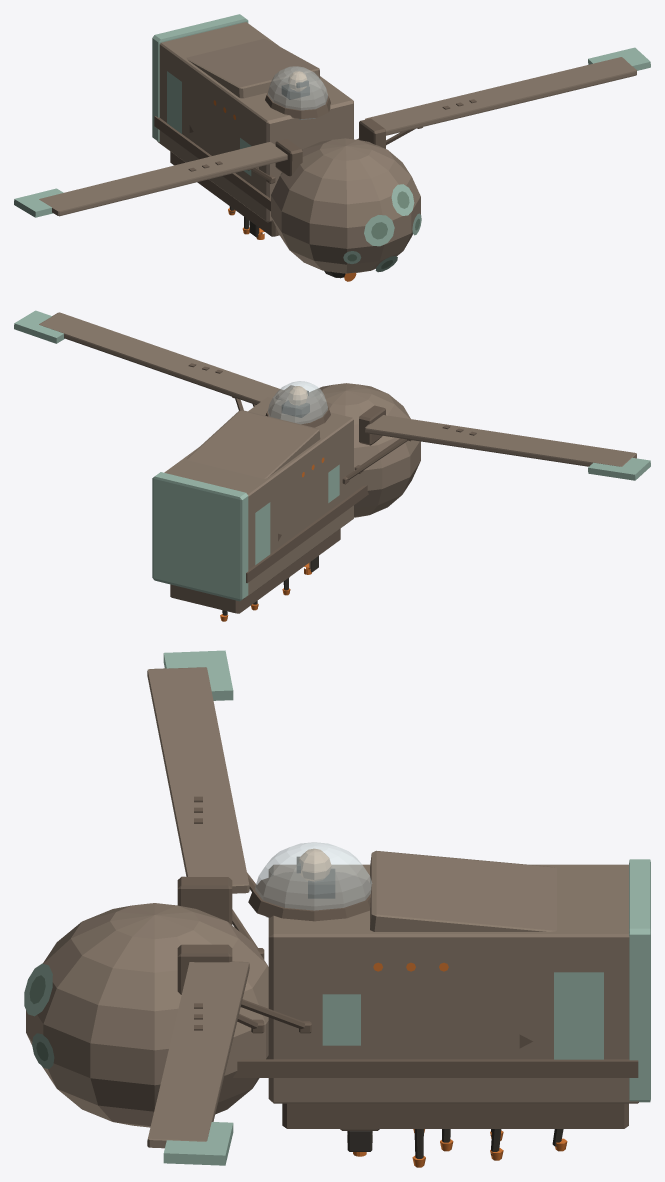
File: pod-55-2.glb
3 renders of one model, top to bottom at view 1: azimuth 30°, elevation 25°; view 2: azimuth 150°, elevation 25°; view 3: azimuth 270°, elevation 25°, orthographic. The views are drawn at different scales.
Visible parts, largest first — view 1: n1, n13, n44, n33, n15, n27, n19, n28, n21, n17, n23, n35 (+5 smaller); view 2: n13, n19, n1, n44, n15, n33, n17, n27, n21, n28, n35, n46 (+2 smaller); view 3: n13, n1, n15, n33, n44, n17, n22, n27, n19, n25, n28, n37 (+6 smaller).
Part boxes in pixels (bbox=[...]): n1: bbox=[271, 138, 420, 273]; n13: bbox=[157, 22, 353, 222]; n44: bbox=[365, 57, 636, 135]; n33: bbox=[39, 142, 287, 216]; n15: bbox=[186, 39, 320, 98]; n27: bbox=[268, 66, 327, 119]; n19: bbox=[152, 14, 248, 142]; n28: bbox=[265, 82, 330, 118]; n21: bbox=[154, 116, 270, 211]; n17: bbox=[170, 151, 279, 236]; n23: bbox=[167, 71, 181, 133]; n35: bbox=[14, 188, 63, 217]; n13: bbox=[164, 397, 353, 599]; n19: bbox=[152, 472, 248, 601]; n1: bbox=[308, 383, 420, 517]; n44: bbox=[39, 312, 283, 404]; n15: bbox=[186, 410, 320, 478]; n33: bbox=[365, 415, 636, 466]; n17: bbox=[170, 528, 340, 613]; n27: bbox=[268, 381, 327, 424]; n21: bbox=[246, 485, 368, 583]; n28: bbox=[265, 397, 330, 427]; n35: bbox=[588, 457, 650, 480]; n46: bbox=[14, 310, 64, 343]; n13: bbox=[268, 864, 638, 1103]; n1: bbox=[26, 903, 268, 1127]; n15: bbox=[370, 850, 556, 931]; n33: bbox=[147, 667, 249, 893]; n44: bbox=[147, 961, 249, 1148]; n17: bbox=[282, 1103, 628, 1128]; n22: bbox=[233, 1059, 638, 1077]; n27: bbox=[255, 842, 372, 917]; n19: bbox=[629, 859, 650, 1102]; n25: bbox=[554, 972, 603, 1059]; n28: bbox=[248, 871, 370, 921]; n37: bbox=[177, 876, 232, 924].
Bounding box in the file's own units: 8.13 × 2.27 × 4.33.
